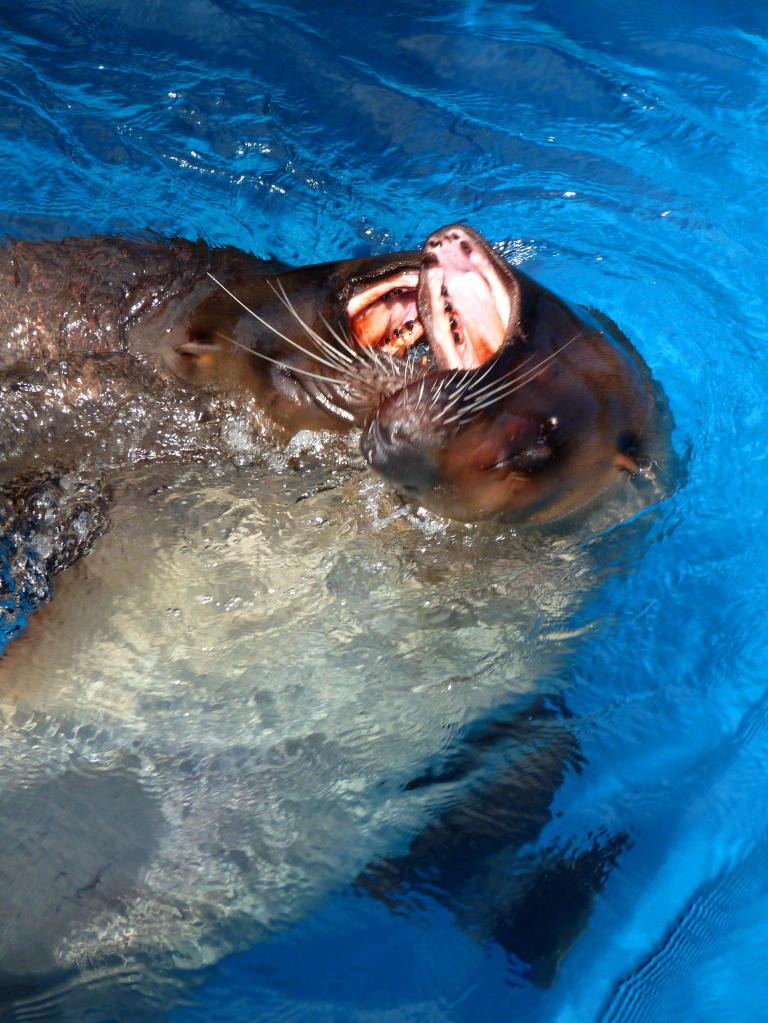face: (353, 262, 459, 378)
